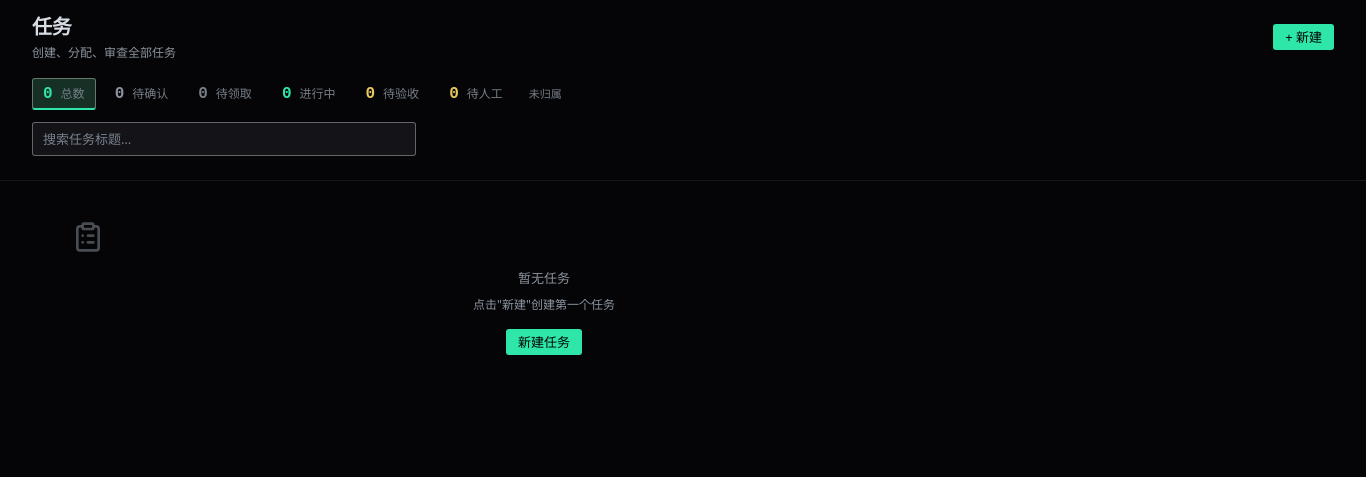
it: WorkUnitListPage › 全空空态：去 emoji 图标 + 「新建任务」CTA 开创建表单
Expected: the icon is shown, [72,221,104,253]
What coordinates should you click on to do the following:
click the button "新建任务"
I would click on:
 (544, 342)
Its box is [506,329,582,355].
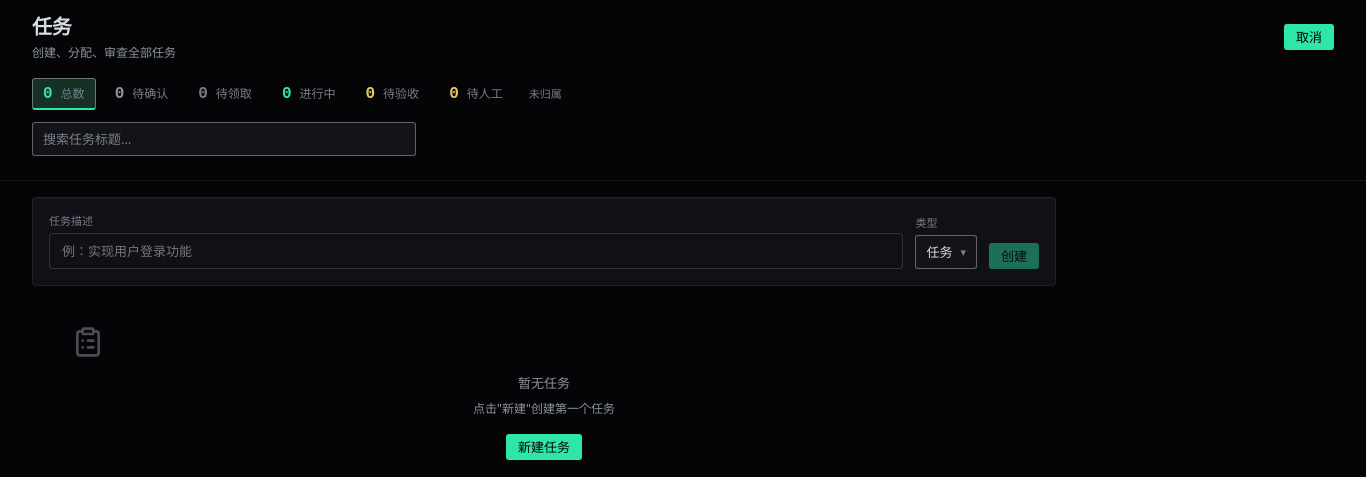
Now the field with placeholder "例：实现用户登录功能" is shown, box [49,233,903,269]
